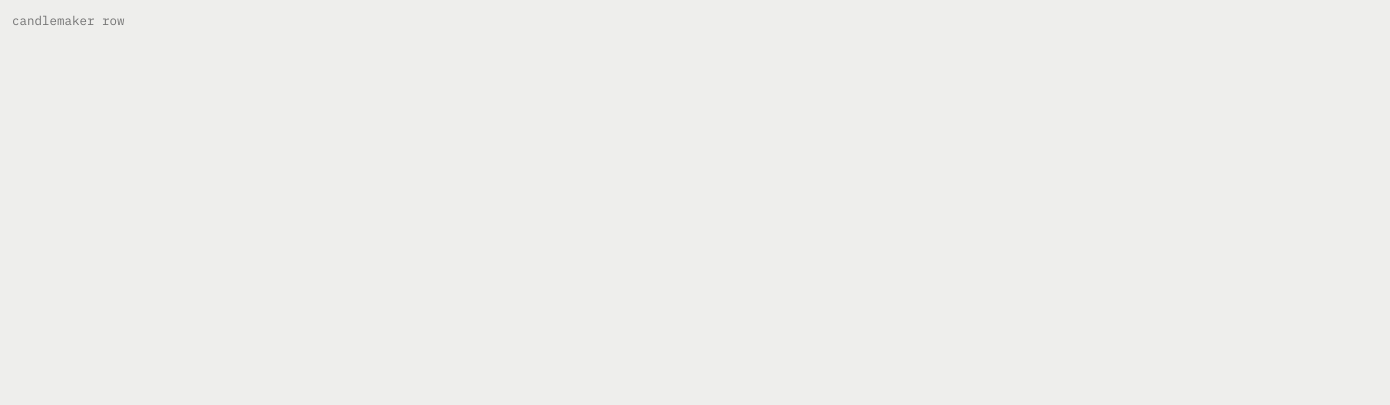
Test: offers map selection before the place suggestions and returns focus to the inline map
Click the dropdown. click: (695, 20)
box: left=12, top=12, right=1378, bottom=28
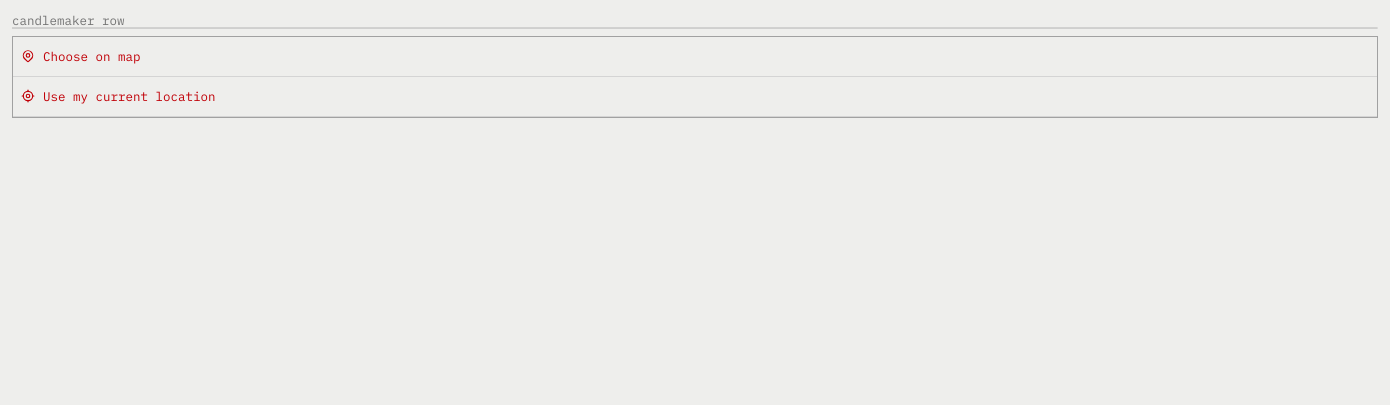
Click the button "Choose on map". click: (92, 56)
box: left=13, top=37, right=1377, bottom=77
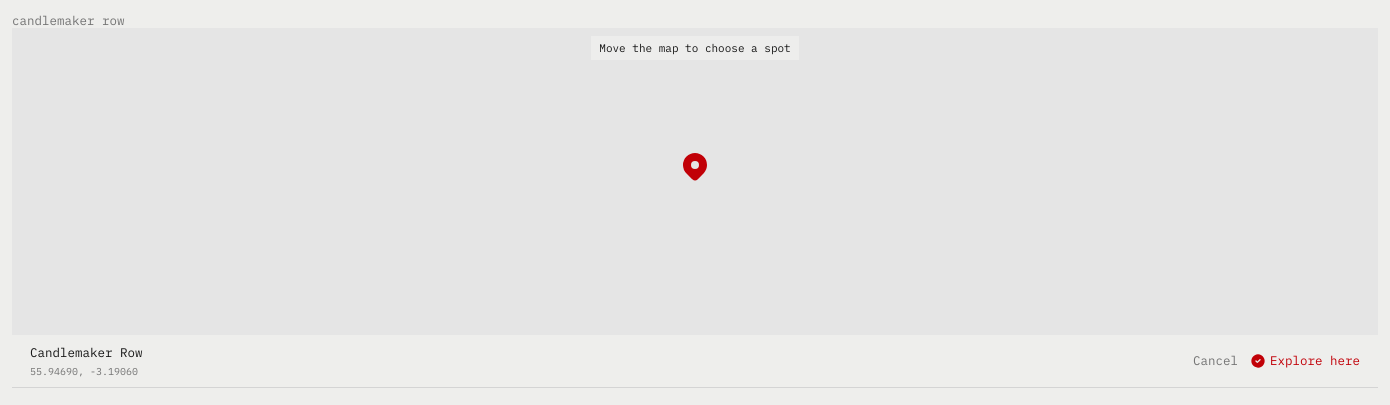
Type "castle" into the dropdown. click: (695, 20)
box: left=12, top=12, right=1378, bottom=28
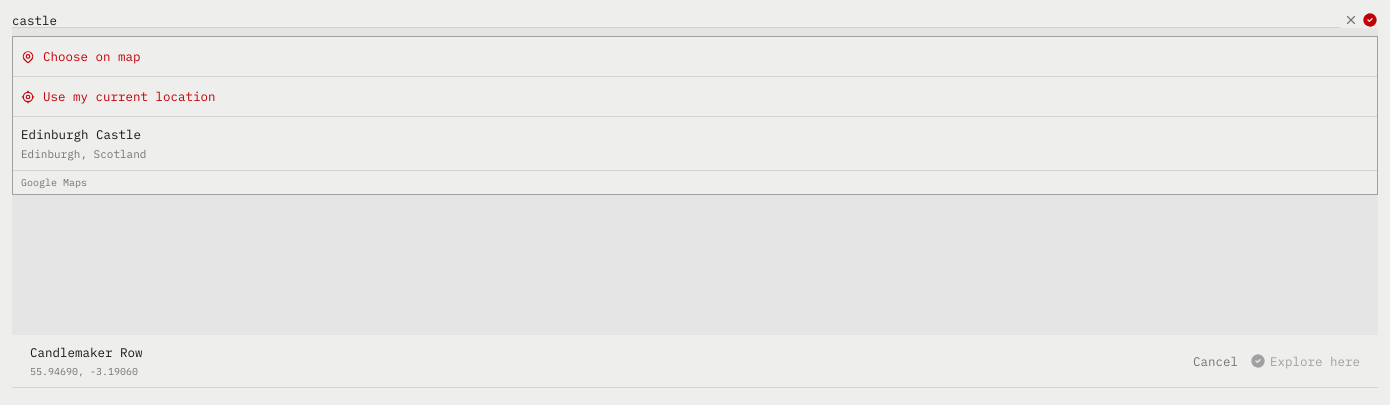
Click the button "Choose on map". click: (92, 56)
box: left=13, top=37, right=1377, bottom=77
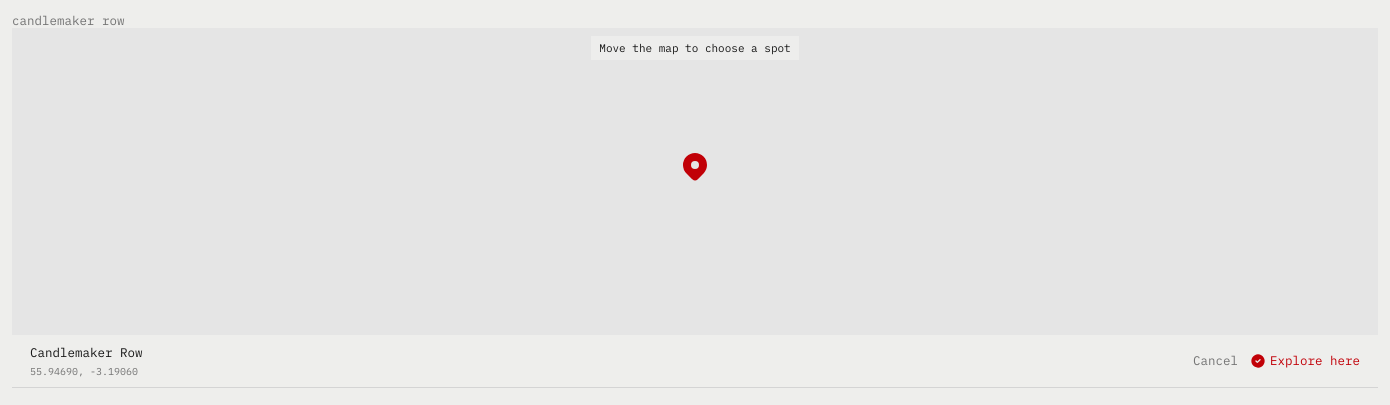
Now the dropdown is empty, box left=12, top=12, right=1378, bottom=28
